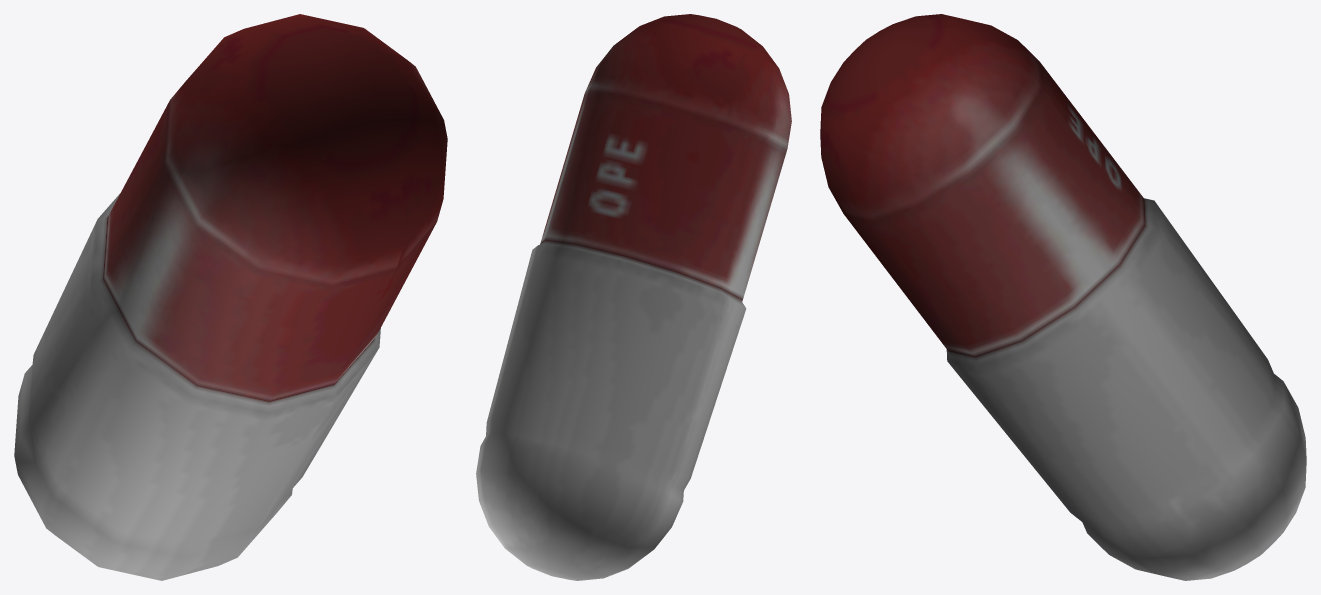
File: icon_0.ico.obj
The picture shows the model from 3 angles, left to right: view 1: azimuth 30°, elevation 25°; view 2: azimuth 150°, elevation 25°; view 3: azimuth 270°, elevation 25°; orthographic projection. The views are drawn at different scales.
Size of the model in its own units: 1.4 by 3.28 by 2.67.
Materials: 1 (1 with a texture image).
